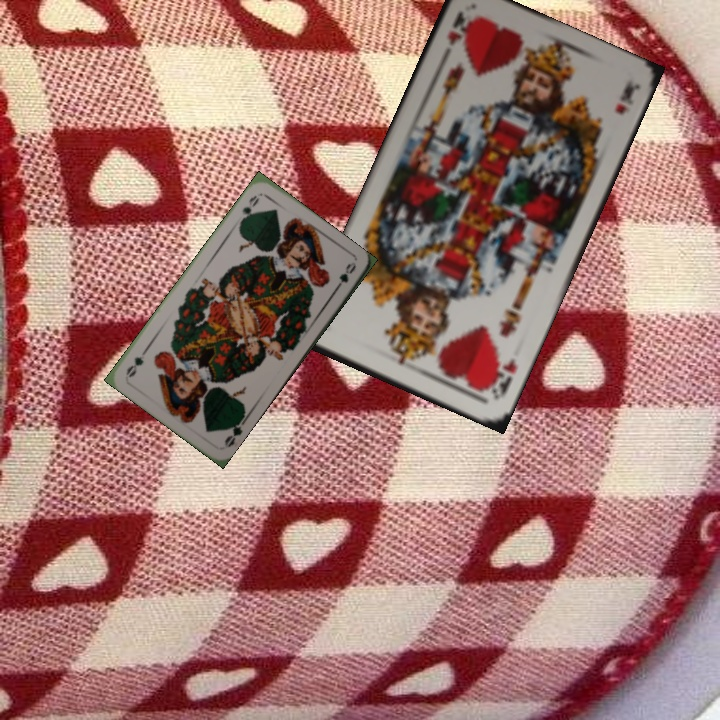GO: (220, 413, 249, 450), (235, 191, 262, 227)
HK: (437, 7, 473, 63), (484, 354, 520, 402)
